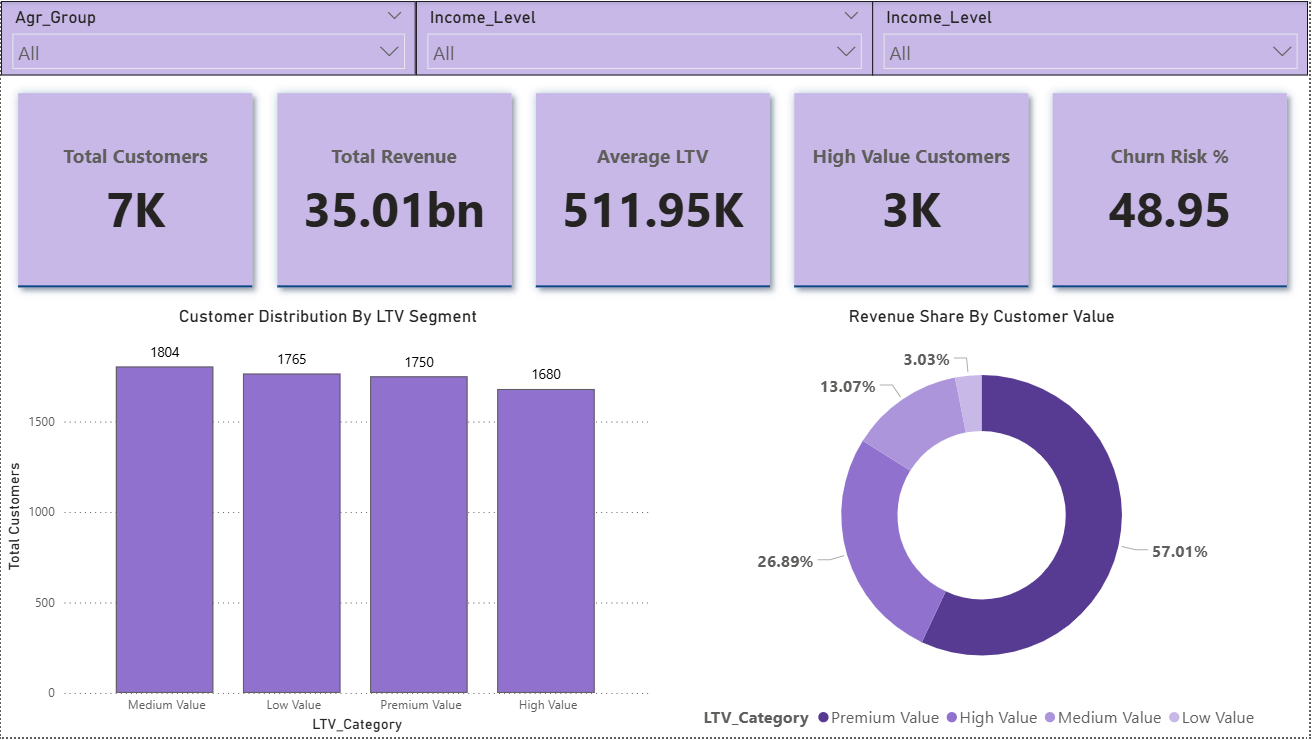

The page's visual inventory and layout, read from the dashboard file:
{"tool":"powerbi","page":{"name":"Executive Overview – Customer Value Snapshot","canvas":[1280,720],"ordinal":0},"visuals":[{"type":"cardVisual","fields":{"Data":["digital_wallet_ltv_dataset.Total Customers","digital_wallet_ltv_dataset.Total Revenue","digital_wallet_ltv_dataset.Average LTV","digital_wallet_ltv_dataset.High Value Customers","digital_wallet_ltv_dataset.Churn Risk %"]},"box":[0,73,1279.7,224.9],"z":0},{"type":"clusteredColumnChart","title":"Customer Distribution By LTV Segment","fields":{"Category":["digital_wallet_ltv_dataset.LTV_Category"],"Y":["digital_wallet_ltv_dataset.Total Customers"]},"box":[0,297.9,639.9,422.5],"z":1000},{"type":"donutChart","title":"Revenue Share By Customer Value","fields":{"Category":["digital_wallet_ltv_dataset.LTV_Category"],"Y":["digital_wallet_ltv_dataset.Total Revenue"]},"box":[639.9,297.9,639.9,422.5],"z":2000},{"type":"slicer","fields":{"Values":["digital_wallet_ltv_dataset.Agr_Group"]},"box":[0,0,405.8,73],"z":3000},{"type":"slicer","fields":{"Values":["digital_wallet_ltv_dataset.Income_Level"]},"box":[405.8,0,446.8,73],"z":4000},{"type":"slicer","fields":{"Values":["digital_wallet_ltv_dataset.Income_Level"]},"box":[852.6,0,427.1,73],"z":5000}]}

Visuals, with their boxes in screenshot pixels (x1, y1, x2, y2), scaled from the page's 1280x720 canvas onto the 1312x740 screenshot:
cardVisual - digital_wallet_ltv_dataset.Total Customers x digital_wallet_ltv_dataset.Total Revenue: pyautogui.locateOnScreen(0, 75, 1311, 306)
"Customer Distribution By LTV Segment" clusteredColumnChart: pyautogui.locateOnScreen(0, 306, 656, 739)
"Revenue Share By Customer Value" donutChart: pyautogui.locateOnScreen(656, 306, 1311, 739)
slicer - digital_wallet_ltv_dataset.Agr_Group: pyautogui.locateOnScreen(0, 0, 416, 75)
slicer - digital_wallet_ltv_dataset.Income_Level: pyautogui.locateOnScreen(416, 0, 874, 75)
slicer - digital_wallet_ltv_dataset.Income_Level: pyautogui.locateOnScreen(874, 0, 1311, 75)
